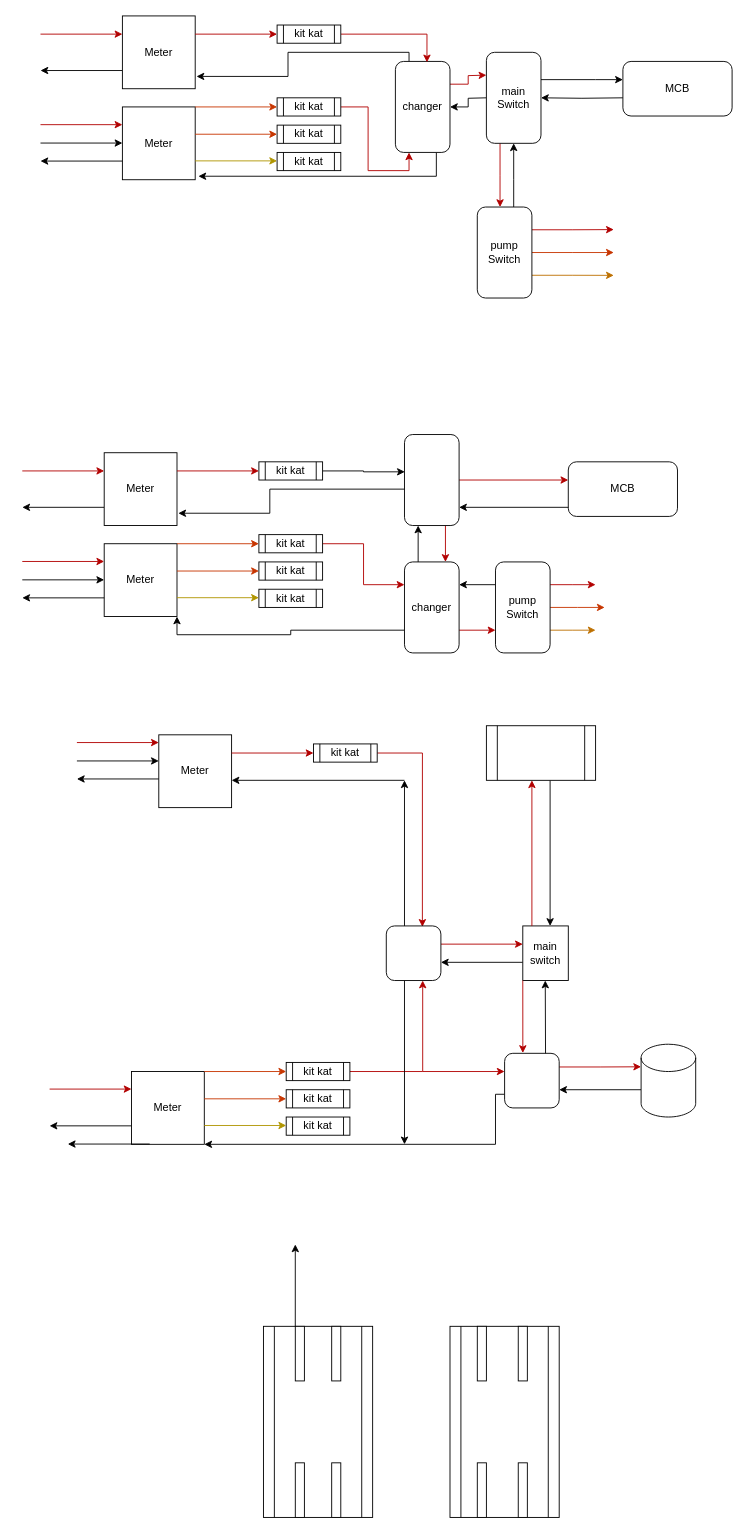
This 748x1533 diagram has some shape labels left out. The centre of each missing label's shape, as x and y in pixels:
changer 1: (413,953)
changer 2: (531,1080)
MainSwitch: (431,480)
